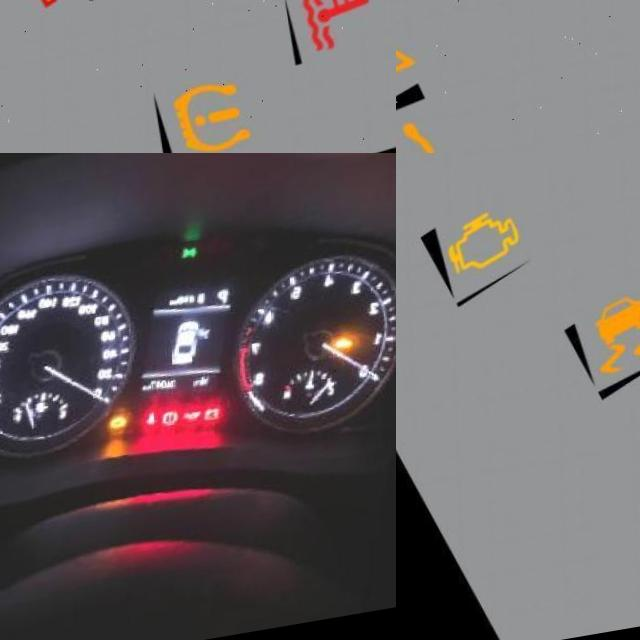Seat Belt: (150, 416, 163, 432)
